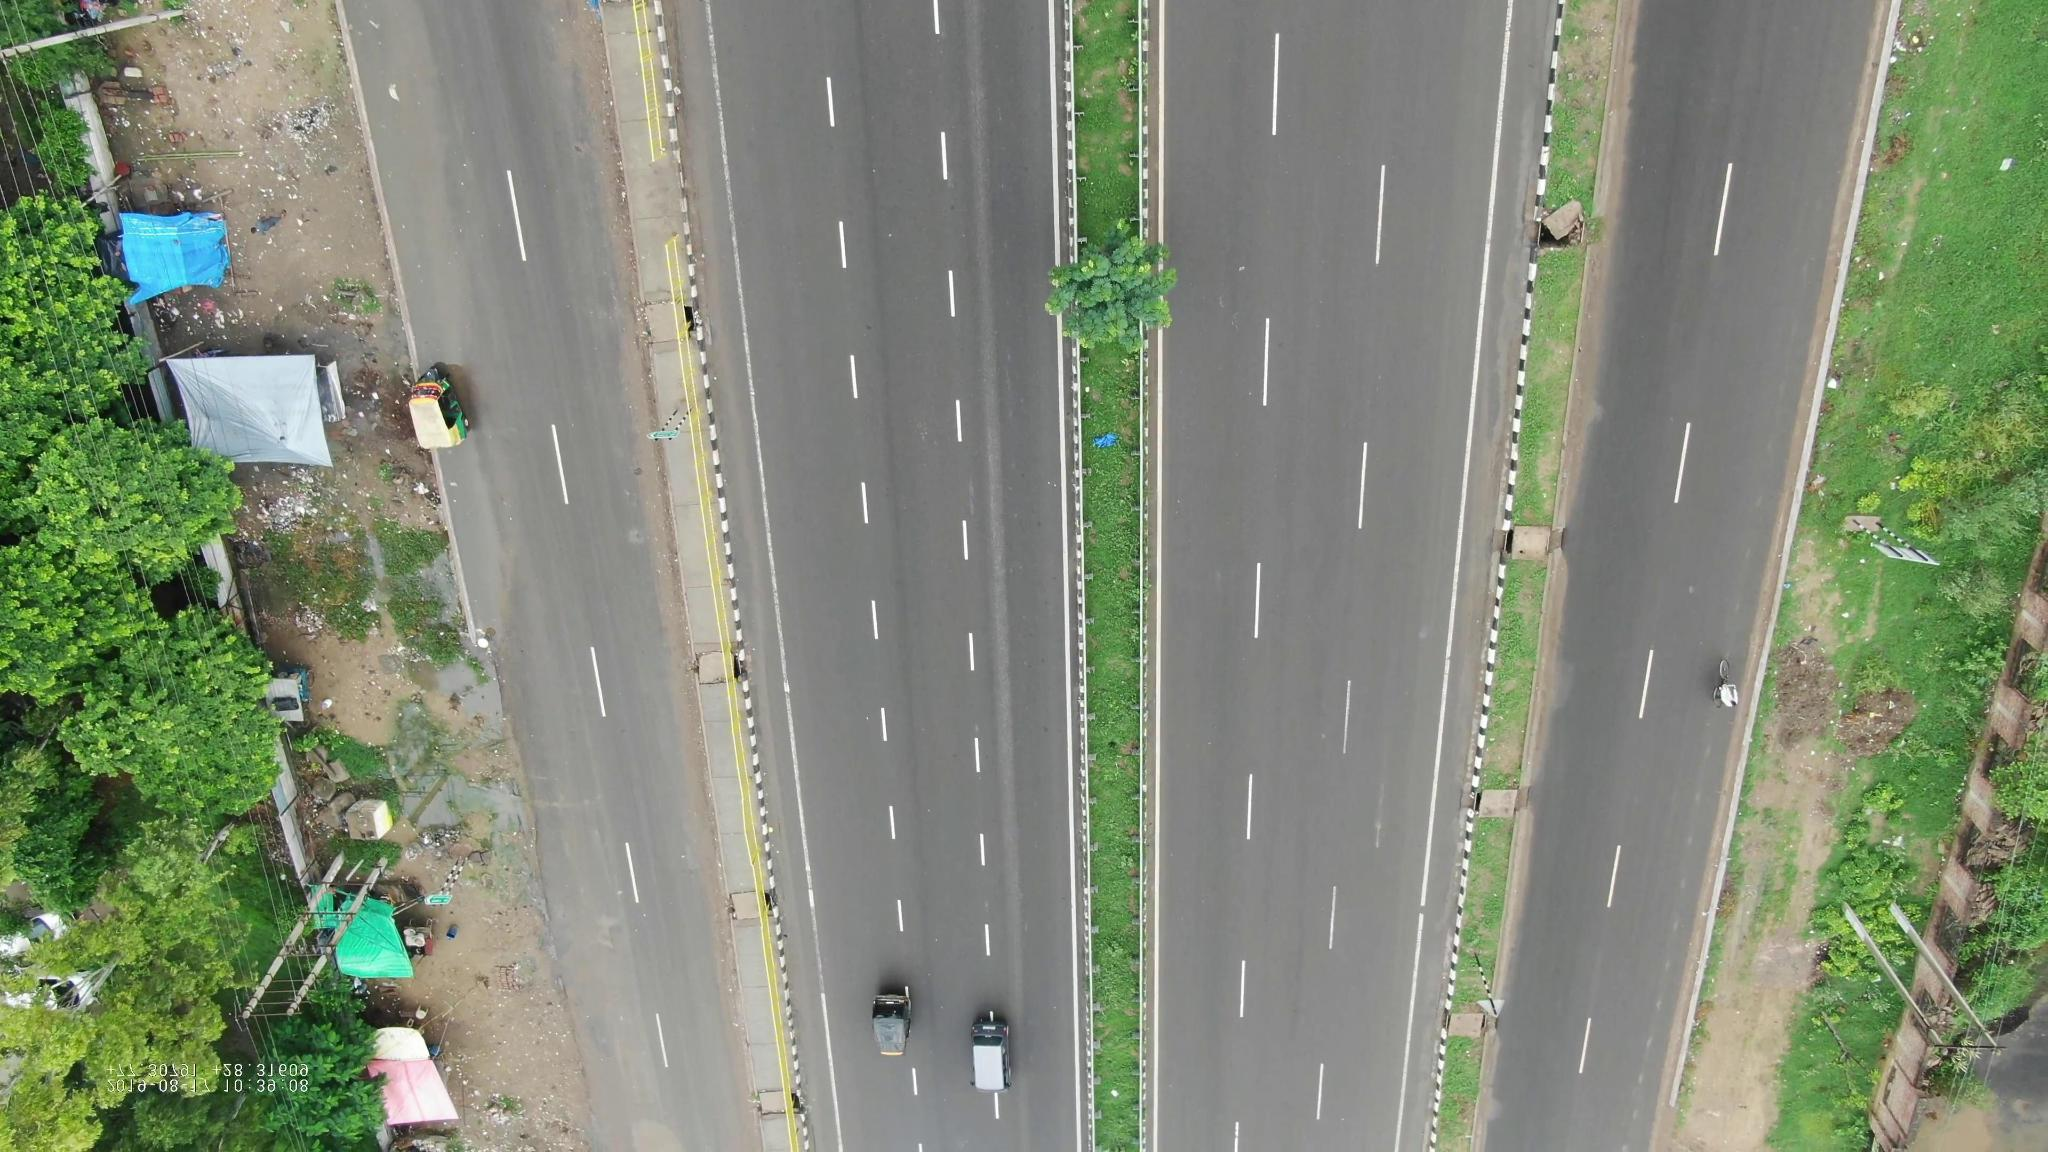Potholes: (1618, 986, 1672, 1139), (1670, 745, 1722, 866), (1643, 873, 1694, 987), (577, 914, 633, 975)
Waterlogging: (343, 3, 471, 291), (442, 468, 513, 627)
